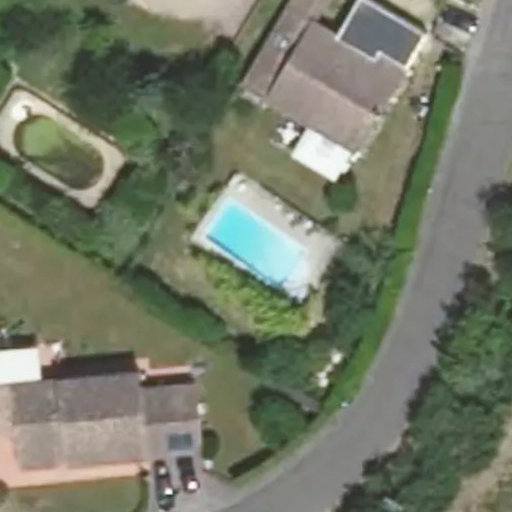pool: (204, 234, 316, 257)
